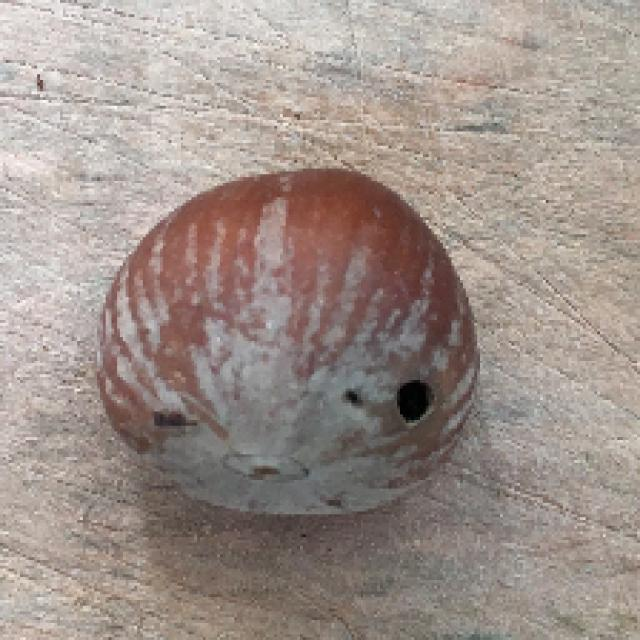damagedHazelnut: (97, 169, 491, 516)
